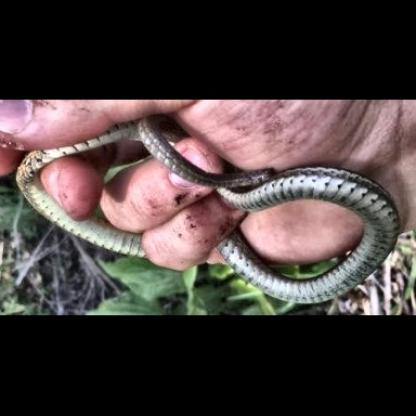Snake: (11, 117, 401, 307)
